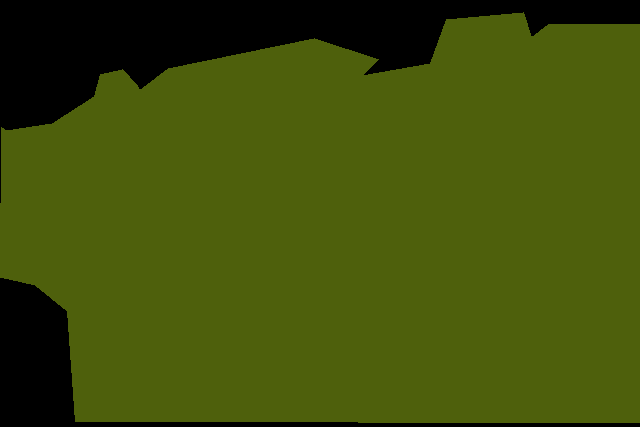Train: (0, 12, 640, 423)
